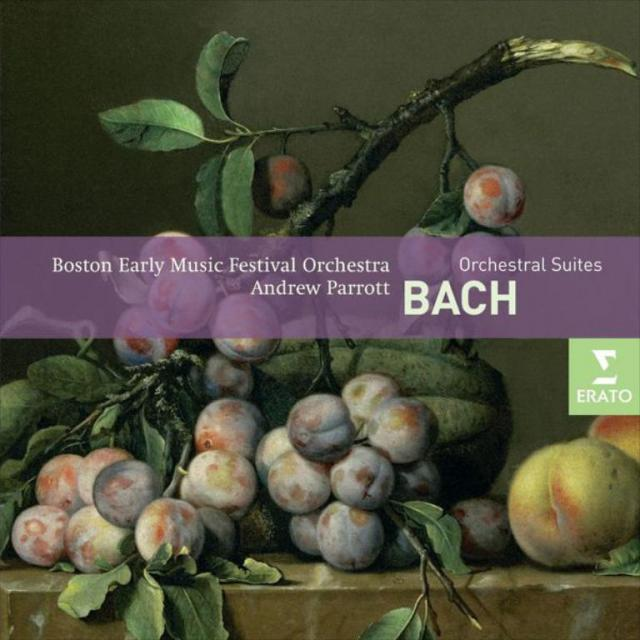Peach: (17, 229, 443, 583), (507, 437, 639, 571), (454, 229, 518, 293), (398, 223, 459, 287), (249, 155, 313, 215), (450, 498, 508, 562), (463, 169, 524, 227), (593, 417, 639, 461)
